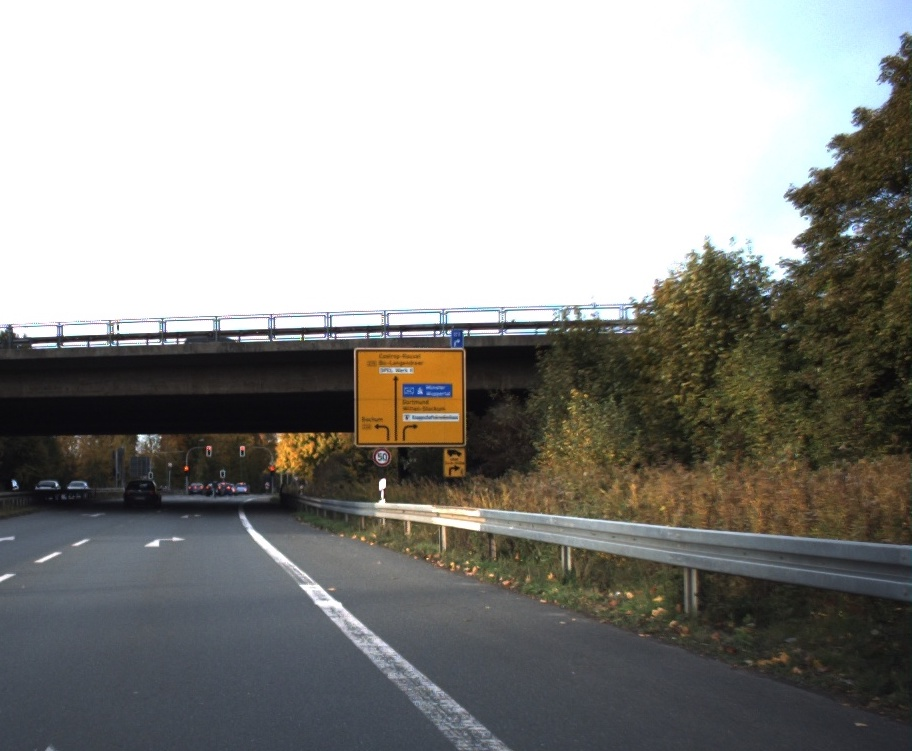panneau: (547, 426, 560, 444)
